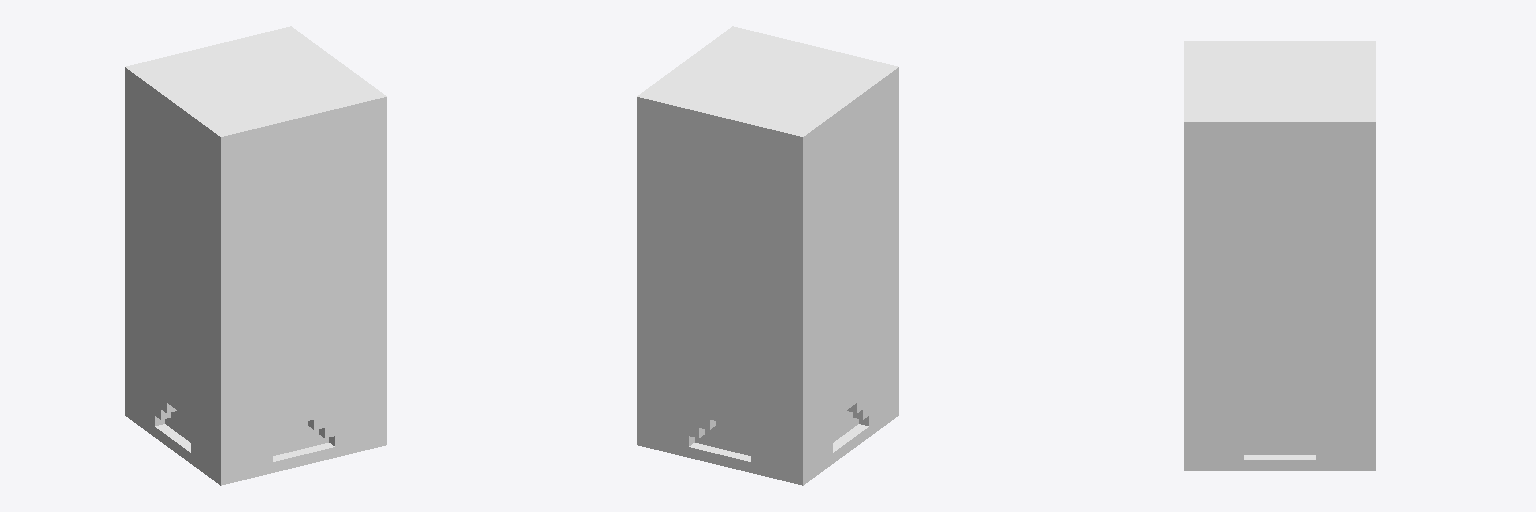
Rendered from Mountain_river_10.obj.
3 renders of one model, left to right at view 1: azimuth 30°, elevation 25°; view 2: azimuth 150°, elevation 25°; view 3: azimuth 270°, elevation 25°, orthographic.
Visible parts, largest first — view 1: object 1; view 2: object 1; view 3: object 1.
Part boxes in pixels (bbox=[...]): object 1: bbox=[125, 26, 386, 485]; object 1: bbox=[637, 26, 898, 485]; object 1: bbox=[1184, 41, 1375, 470].
Bounding box in the file's own units: 1.6 × 3.2 × 1.6.